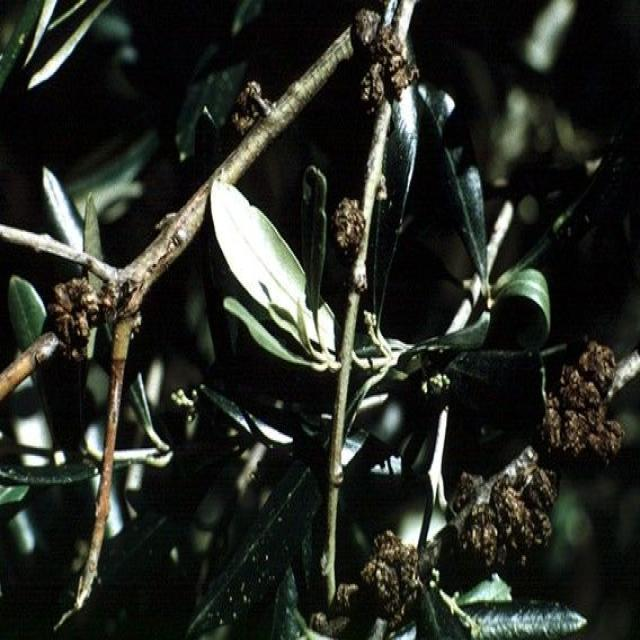Tuberculosis: (458, 456, 556, 573), (540, 340, 624, 462), (338, 531, 419, 629), (353, 10, 417, 100), (48, 276, 112, 358), (230, 80, 270, 134), (332, 198, 362, 258), (456, 476, 479, 506)
